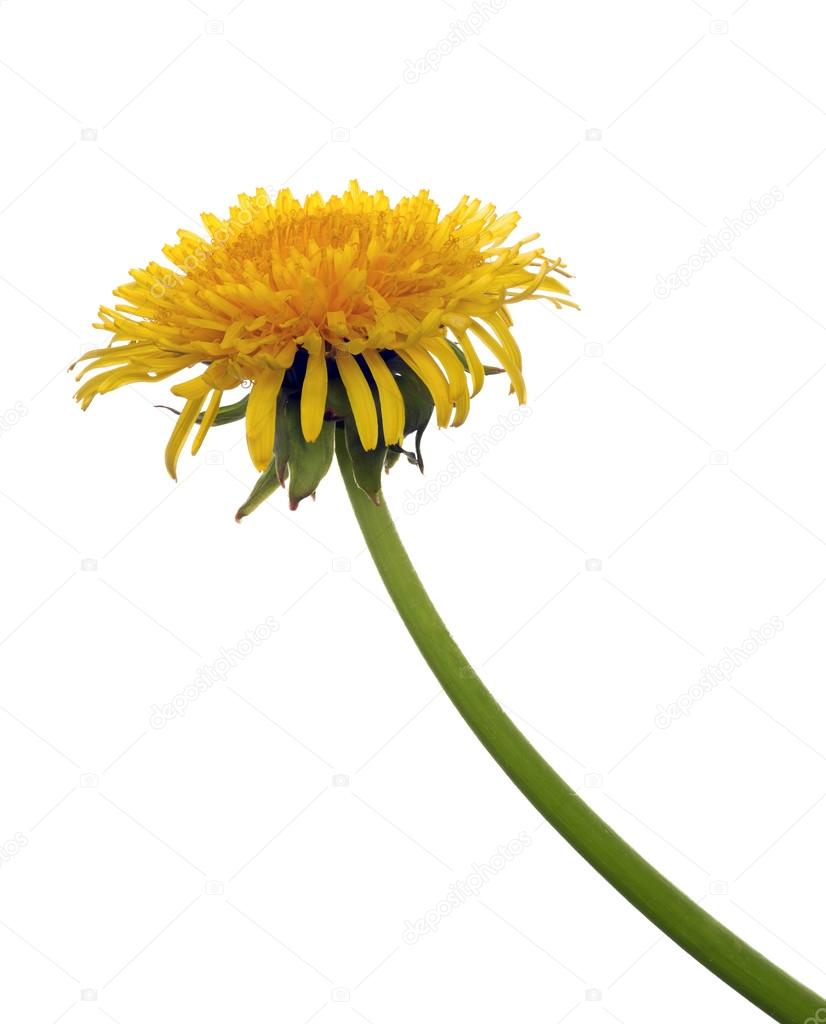dandelion: (121, 175, 547, 449)
